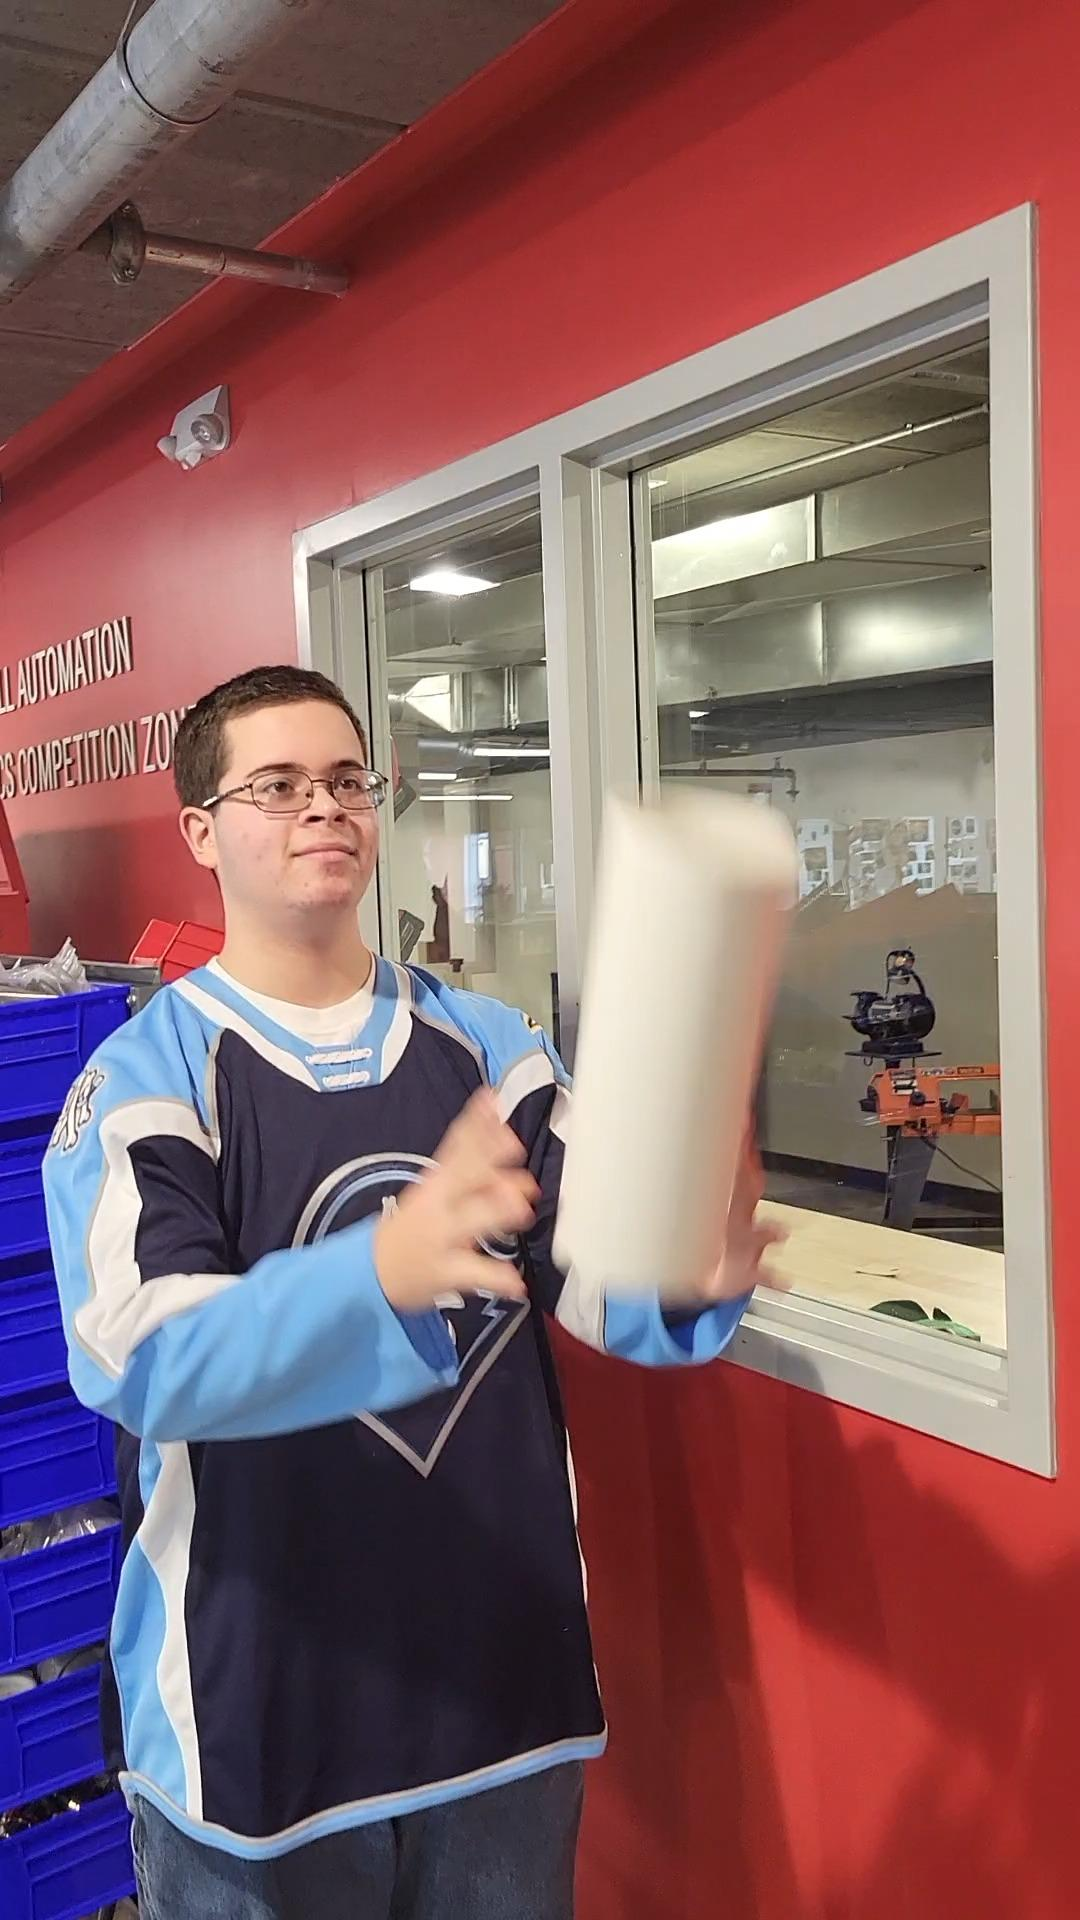coral: (533, 774, 810, 1290)
